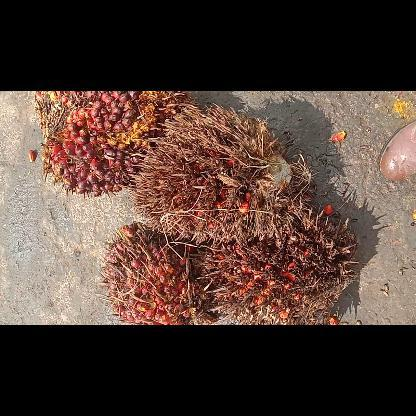TBS masak: (34, 91, 188, 201), (96, 222, 212, 324)
Terlalu masak: (124, 102, 309, 244), (190, 210, 356, 324)
